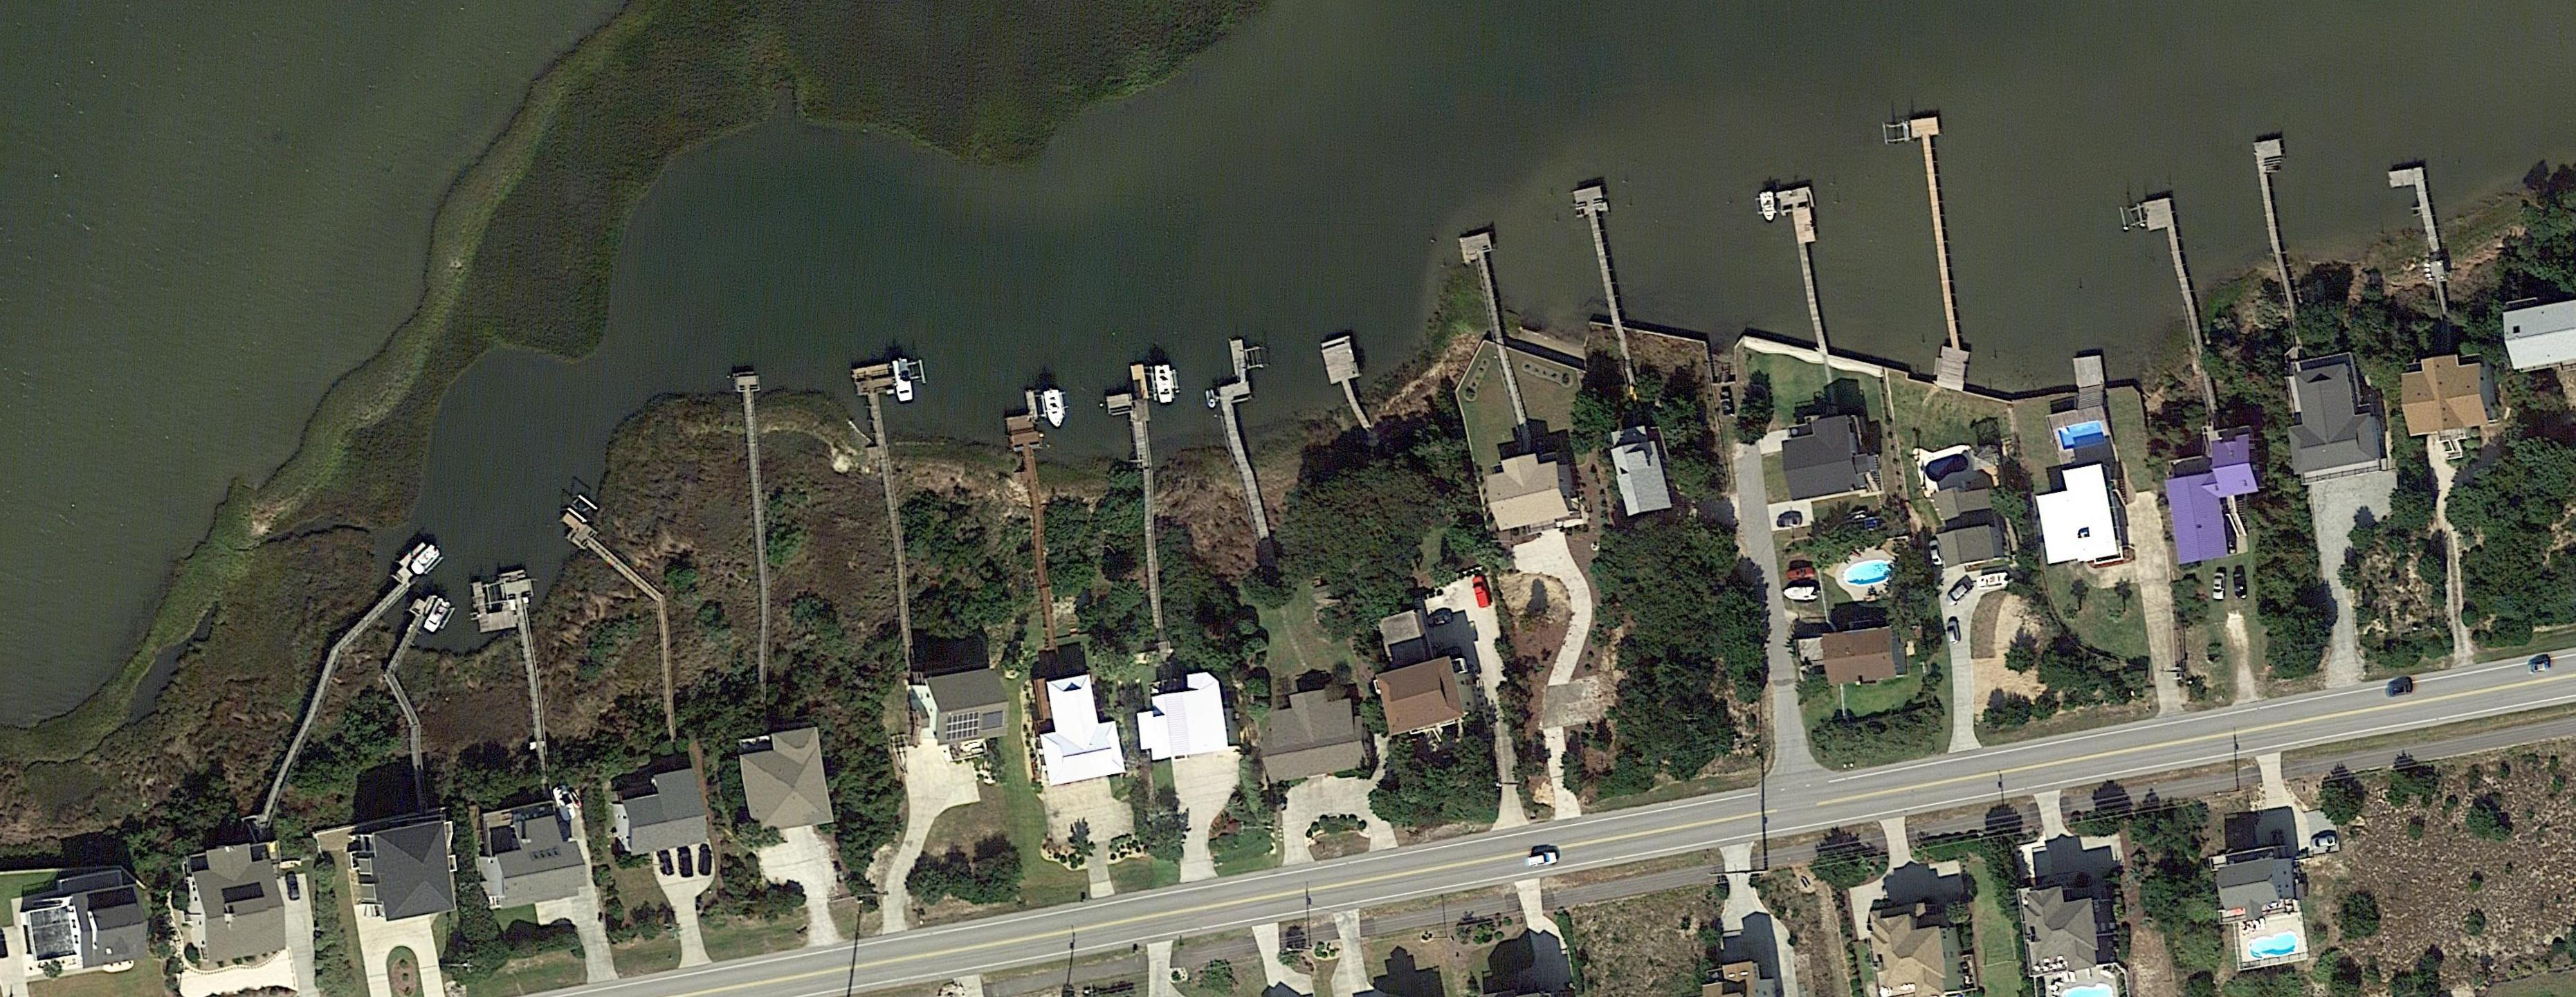harbor: (851, 363, 934, 643), (1099, 365, 1181, 613), (471, 571, 557, 775), (1001, 390, 1072, 623), (257, 643, 345, 831), (1203, 336, 1282, 543), (1458, 233, 1538, 434), (324, 536, 444, 654), (1910, 118, 1969, 351), (1775, 187, 1840, 361), (2141, 197, 2207, 367), (554, 510, 666, 610), (1571, 186, 1637, 351), (733, 371, 778, 599), (2252, 139, 2310, 304), (376, 589, 455, 686), (2388, 165, 2445, 269), (1319, 336, 1376, 436), (655, 599, 679, 743), (385, 674, 421, 729), (408, 728, 430, 809)
ship: (889, 356, 917, 405), (406, 542, 442, 578), (421, 597, 453, 634), (1041, 388, 1067, 432), (553, 785, 579, 824), (1153, 364, 1174, 405), (1756, 190, 1779, 226), (1783, 585, 1818, 602)
